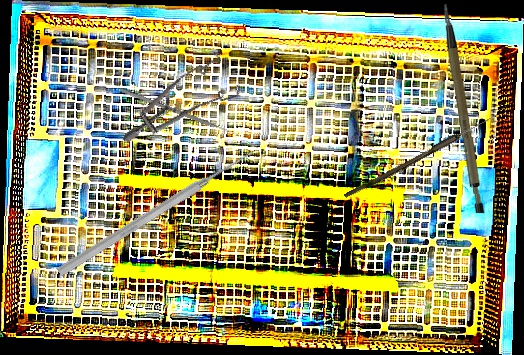Pusher: (55, 145, 257, 280), (119, 87, 243, 139)
Scalpel Handle: (442, 3, 487, 214)
Speculum: (121, 33, 254, 181)
Surgical Spoon: (343, 110, 500, 202)
